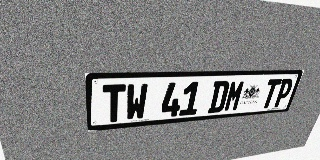1: (179, 82, 202, 116)
4: (160, 82, 184, 118)
D: (207, 81, 230, 113)
M: (223, 80, 246, 112)
P: (272, 78, 295, 107)
T: (102, 84, 126, 123), (259, 79, 282, 109)
W: (125, 83, 148, 121)
